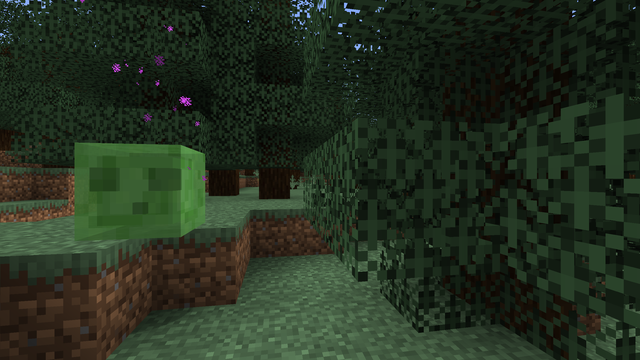slimes: (70, 138, 206, 241)
